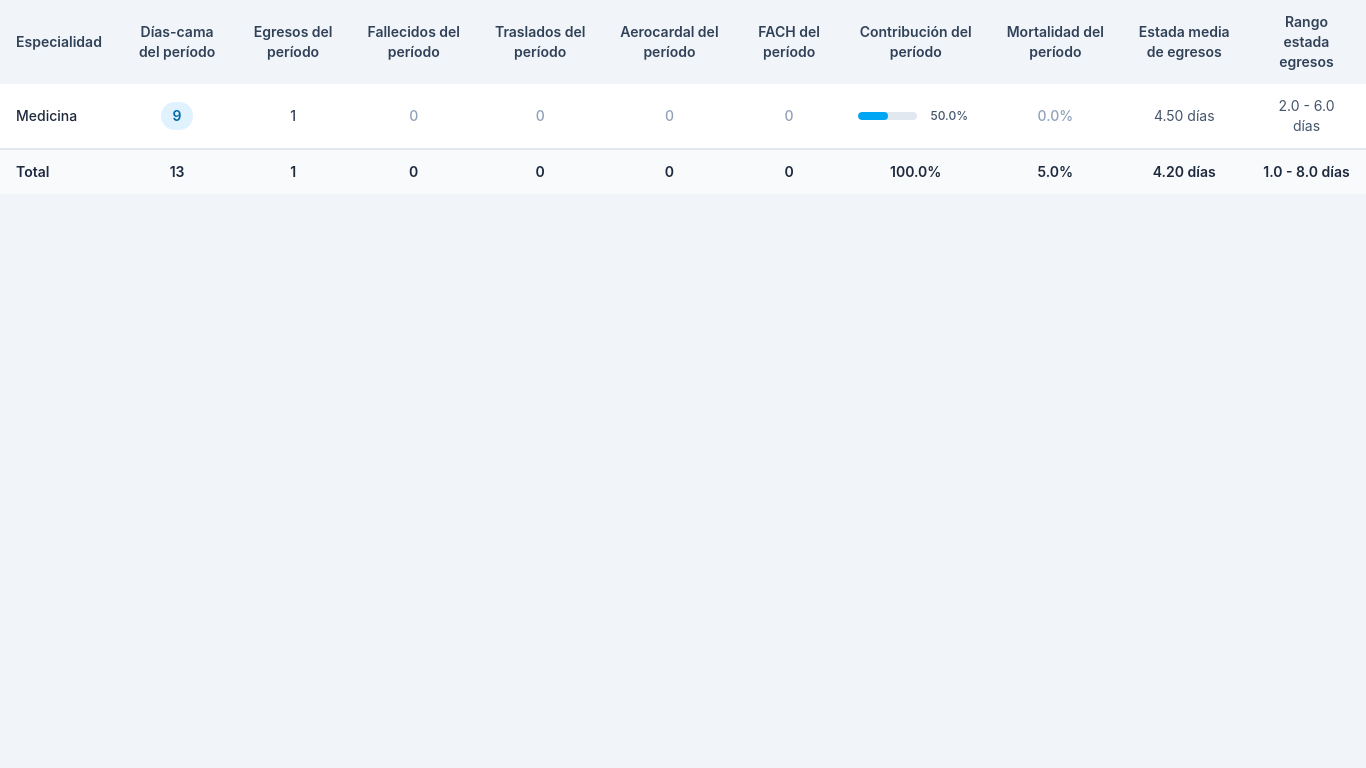
Test: SpecialtyBreakdownTable › shows diagnosis in the traceability dialog for period event details
The image size is (1366, 768).
Click the button "1". click: [293, 116]
box: [290,106,296,126]
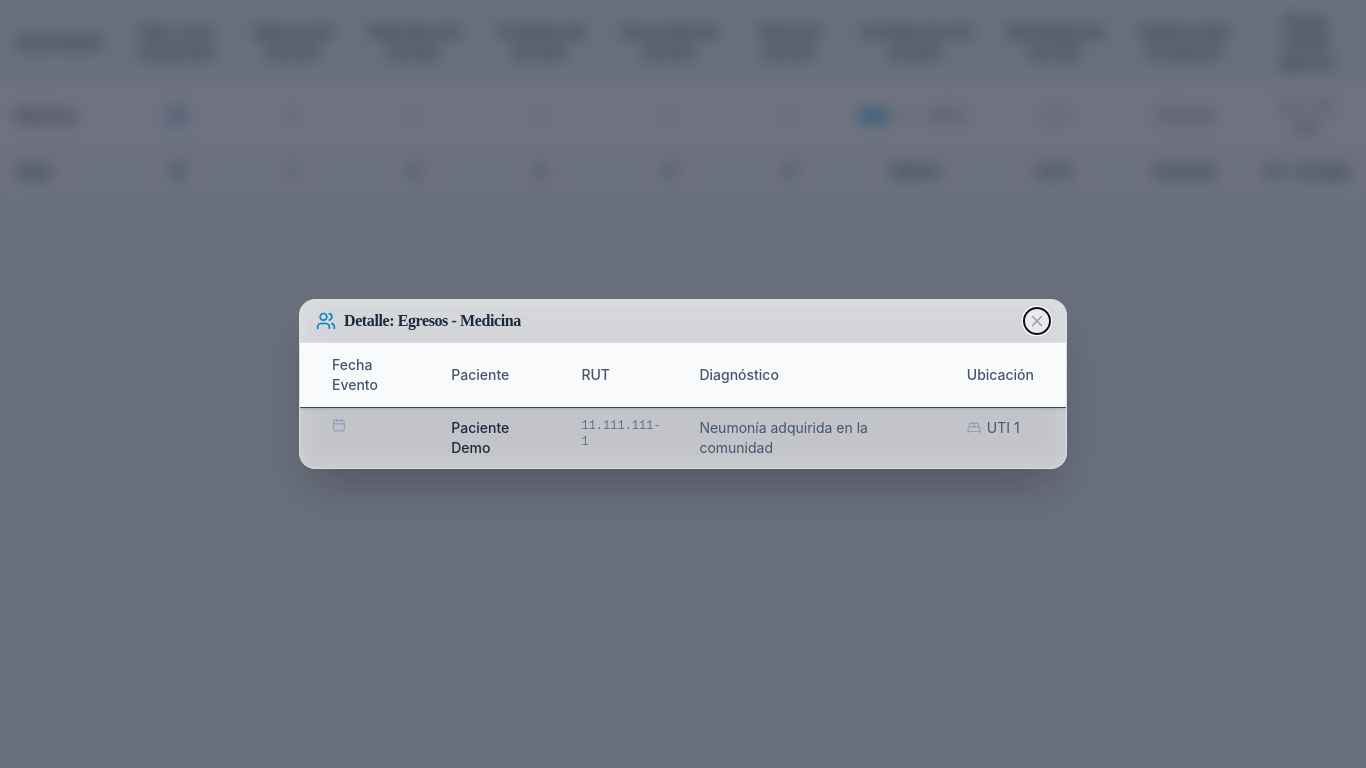
Check: the column heading "Diagnóstico" is shown, box [683,343,951,408]
Check: the text "Neumonía adquirida en la comunidad" is shown, box [699,419,868,456]
